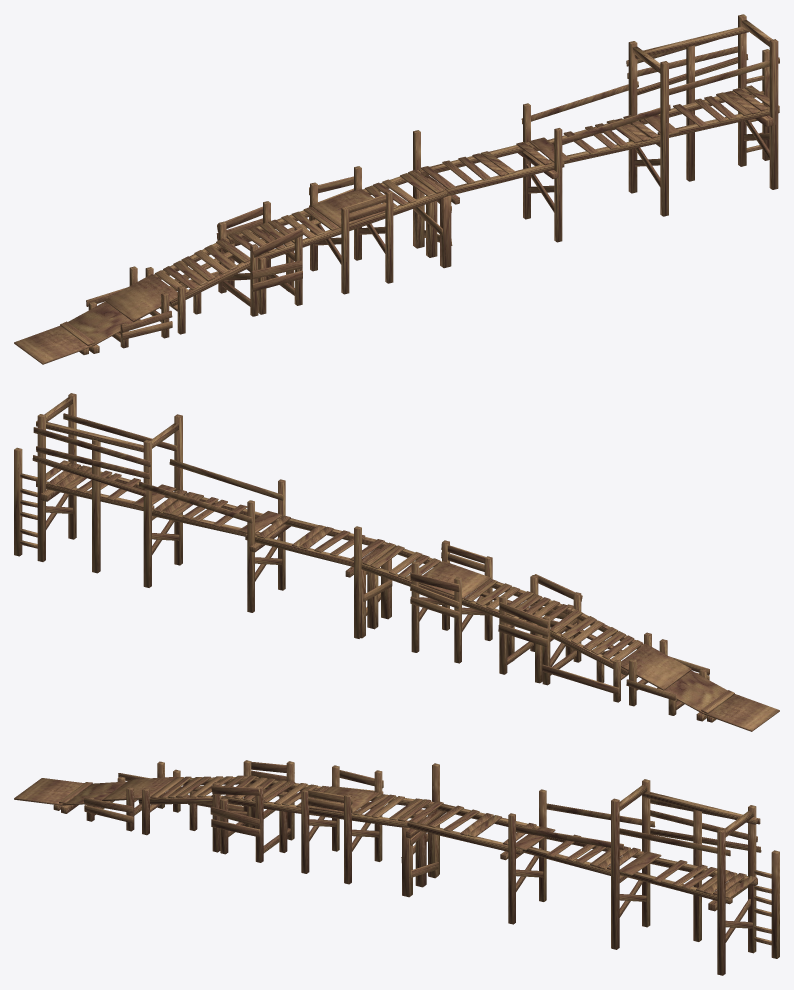
The model's file is ponte.glb.
3 views of the same model, one above another, from view 1: azimuth 30°, elevation 25°; view 2: azimuth 150°, elevation 25°; view 3: azimuth 330°, elevation 25° (orthographic). The views are drawn at different scales.
Visible parts, largest first — view 1: Cube.028_21, Cube.004_14, Cube.121_119, Cube.022_15, Cube.103_103, Cube.104_104, Cube.021_70, Cube.086_86, Cube.123_140, Cube.125_120, Cube.093_93, Cube.090_90 (+11 smaller); view 2: Cube.028_21, Cube.004_14, Cube.022_15, Cube.021_70, Cube.104_104, Cube.125_120, Cube.123_140, Cube.103_103, Cube.143_143, Cube.087_87, Cube.122_117, Cube.092_92 (+13 smaller); view 3: Cube.103_103, Cube.121_119, Cube.004_14, Cube.125_120, Cube.104_104, Cube.143_143, Cube.123_140, Cube.086_86, Cube.028_21, Cube.093_93, Cube.117_139, Cube.021_70 (+28 smaller).
Boxes of the visible parts, left/top/right/bottom form: Cube.028_21: left=104, top=274, right=177, bottom=322; Cube.004_14: left=14, top=326, right=92, bottom=364; Cube.121_119: left=769, top=39, right=778, bottom=189; Cube.022_15: left=68, top=301, right=140, bottom=346; Cube.103_103: left=660, top=61, right=668, bottom=216; Cube.104_104: left=628, top=41, right=637, bottom=193; Cube.021_70: left=311, top=188, right=385, bottom=228; Cube.086_86: left=554, top=128, right=562, bottom=242; Cube.123_140: left=686, top=45, right=694, bottom=181; Cube.125_120: left=738, top=14, right=746, bottom=166; Cube.093_93: left=445, top=161, right=564, bottom=195; Cube.090_90: left=440, top=195, right=451, bottom=268; Cube.028_21: left=621, top=643, right=691, bottom=690; Cube.004_14: left=704, top=694, right=779, bottom=731; Cube.022_15: left=657, top=670, right=727, bottom=713; Cube.021_70: left=419, top=561, right=490, bottom=599; Cube.104_104: left=143, top=439, right=151, bottom=587; Cube.125_120: left=37, top=414, right=45, bottom=561; Cube.123_140: left=92, top=439, right=100, bottom=573; Cube.103_103: left=174, top=414, right=182, bottom=565; Cube.143_143: left=14, top=447, right=22, bottom=556; Cube.087_87: left=247, top=500, right=254, bottom=612; Cube.122_117: left=354, top=526, right=361, bottom=638; Cube.092_92: left=245, top=533, right=353, bottom=566; Cube.103_103: left=611, top=798, right=619, bottom=949; Cube.121_119: left=717, top=829, right=725, bottom=975; Cube.004_14: left=14, top=778, right=84, bottom=805; Cube.125_120: left=748, top=805, right=756, bottom=953; Cube.104_104: left=642, top=779, right=650, bottom=927; Cube.143_143: left=771, top=850, right=779, bottom=958; Cube.123_140: left=693, top=809, right=701, bottom=941; Cube.086_86: left=508, top=813, right=515, bottom=924; Cube.028_21: left=102, top=776, right=176, bottom=801; Cube.093_93: left=407, top=821, right=522, bottom=854; Cube.117_139: left=642, top=791, right=757, bottom=824; Cube.021_70: left=309, top=786, right=379, bottom=813.
Size of the model in its own units: 26.72 by 5.15 by 2.39.
Materials: 1 (1 with a texture image).
